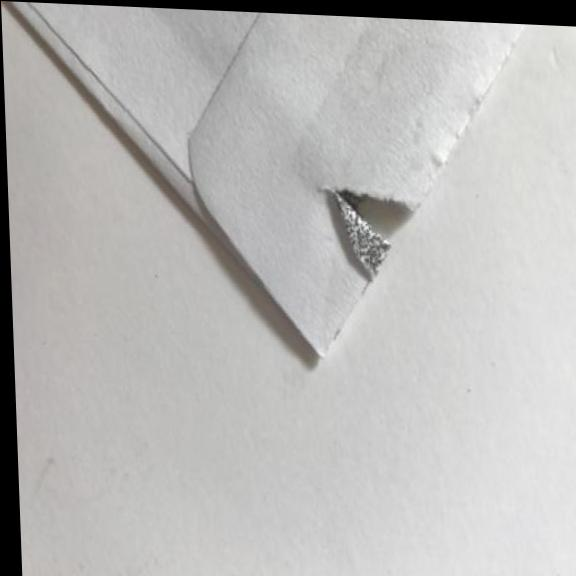Kertas: (0, 0, 544, 379)
